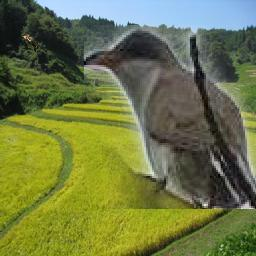Cuckoo: (84, 25, 256, 209)
Woodpecker: (21, 34, 37, 53)
